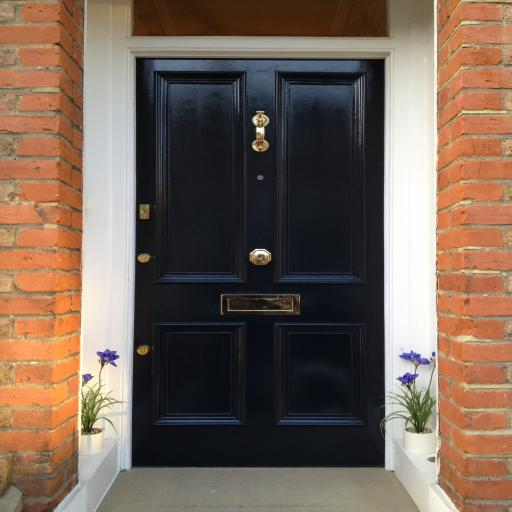Door: (133, 56, 387, 468)
